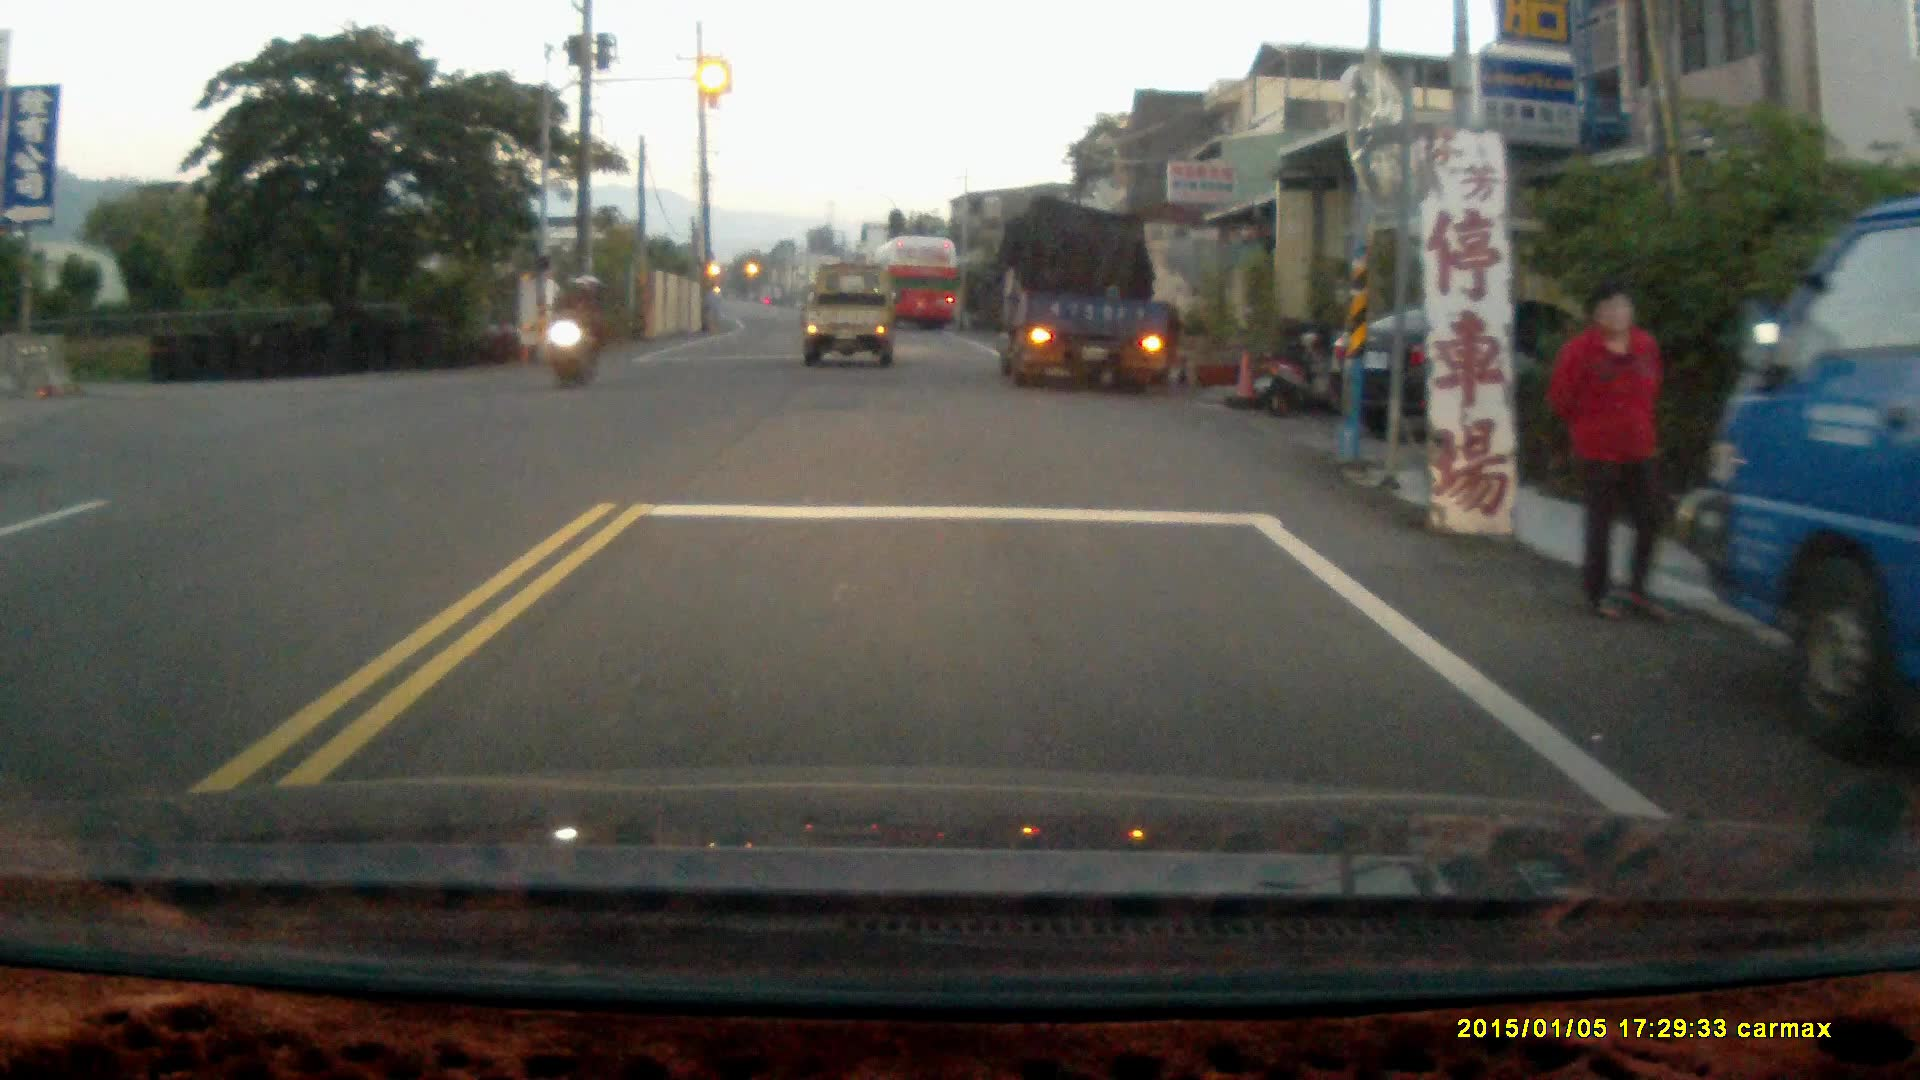pedestrian: (1549, 278, 1671, 625)
rider: (542, 271, 607, 391)
vehicle: (1694, 197, 1920, 768), (1335, 292, 1683, 449), (996, 197, 1181, 389), (803, 262, 898, 375), (871, 233, 965, 331)
